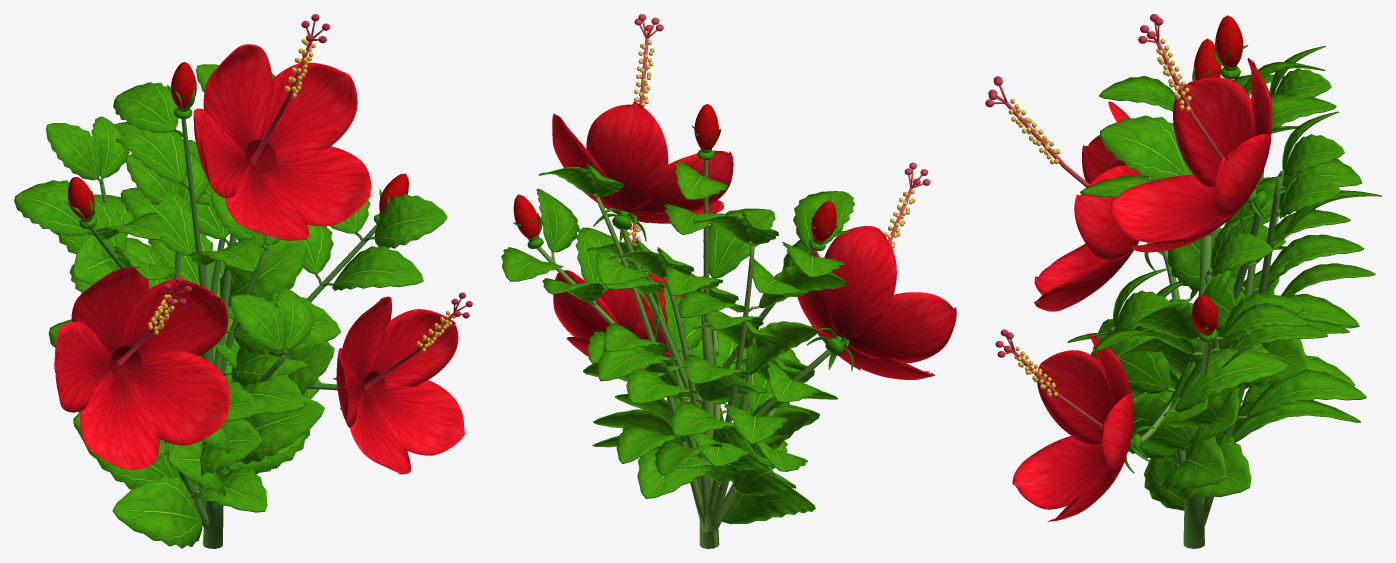
The model's file is NP_Hibiscus_Ready.fbx.
3 renders of one model, left to right at view 1: azimuth 30°, elevation 25°; view 2: azimuth 150°, elevation 25°; view 3: azimuth 270°, elevation 25°, orthographic. The views are drawn at different scales.
Visible parts, largest first — view 1: NP_Hibiscus_Ready; view 2: NP_Hibiscus_Ready; view 3: NP_Hibiscus_Ready.
Part boxes in pixels (<box>): NP_Hibiscus_Ready: <box>14,14,472,548</box>; NP_Hibiscus_Ready: <box>501,14,956,548</box>; NP_Hibiscus_Ready: <box>985,14,1381,548</box>.
Size of the model in its own units: 79.31 by 95.75 by 60.12.
